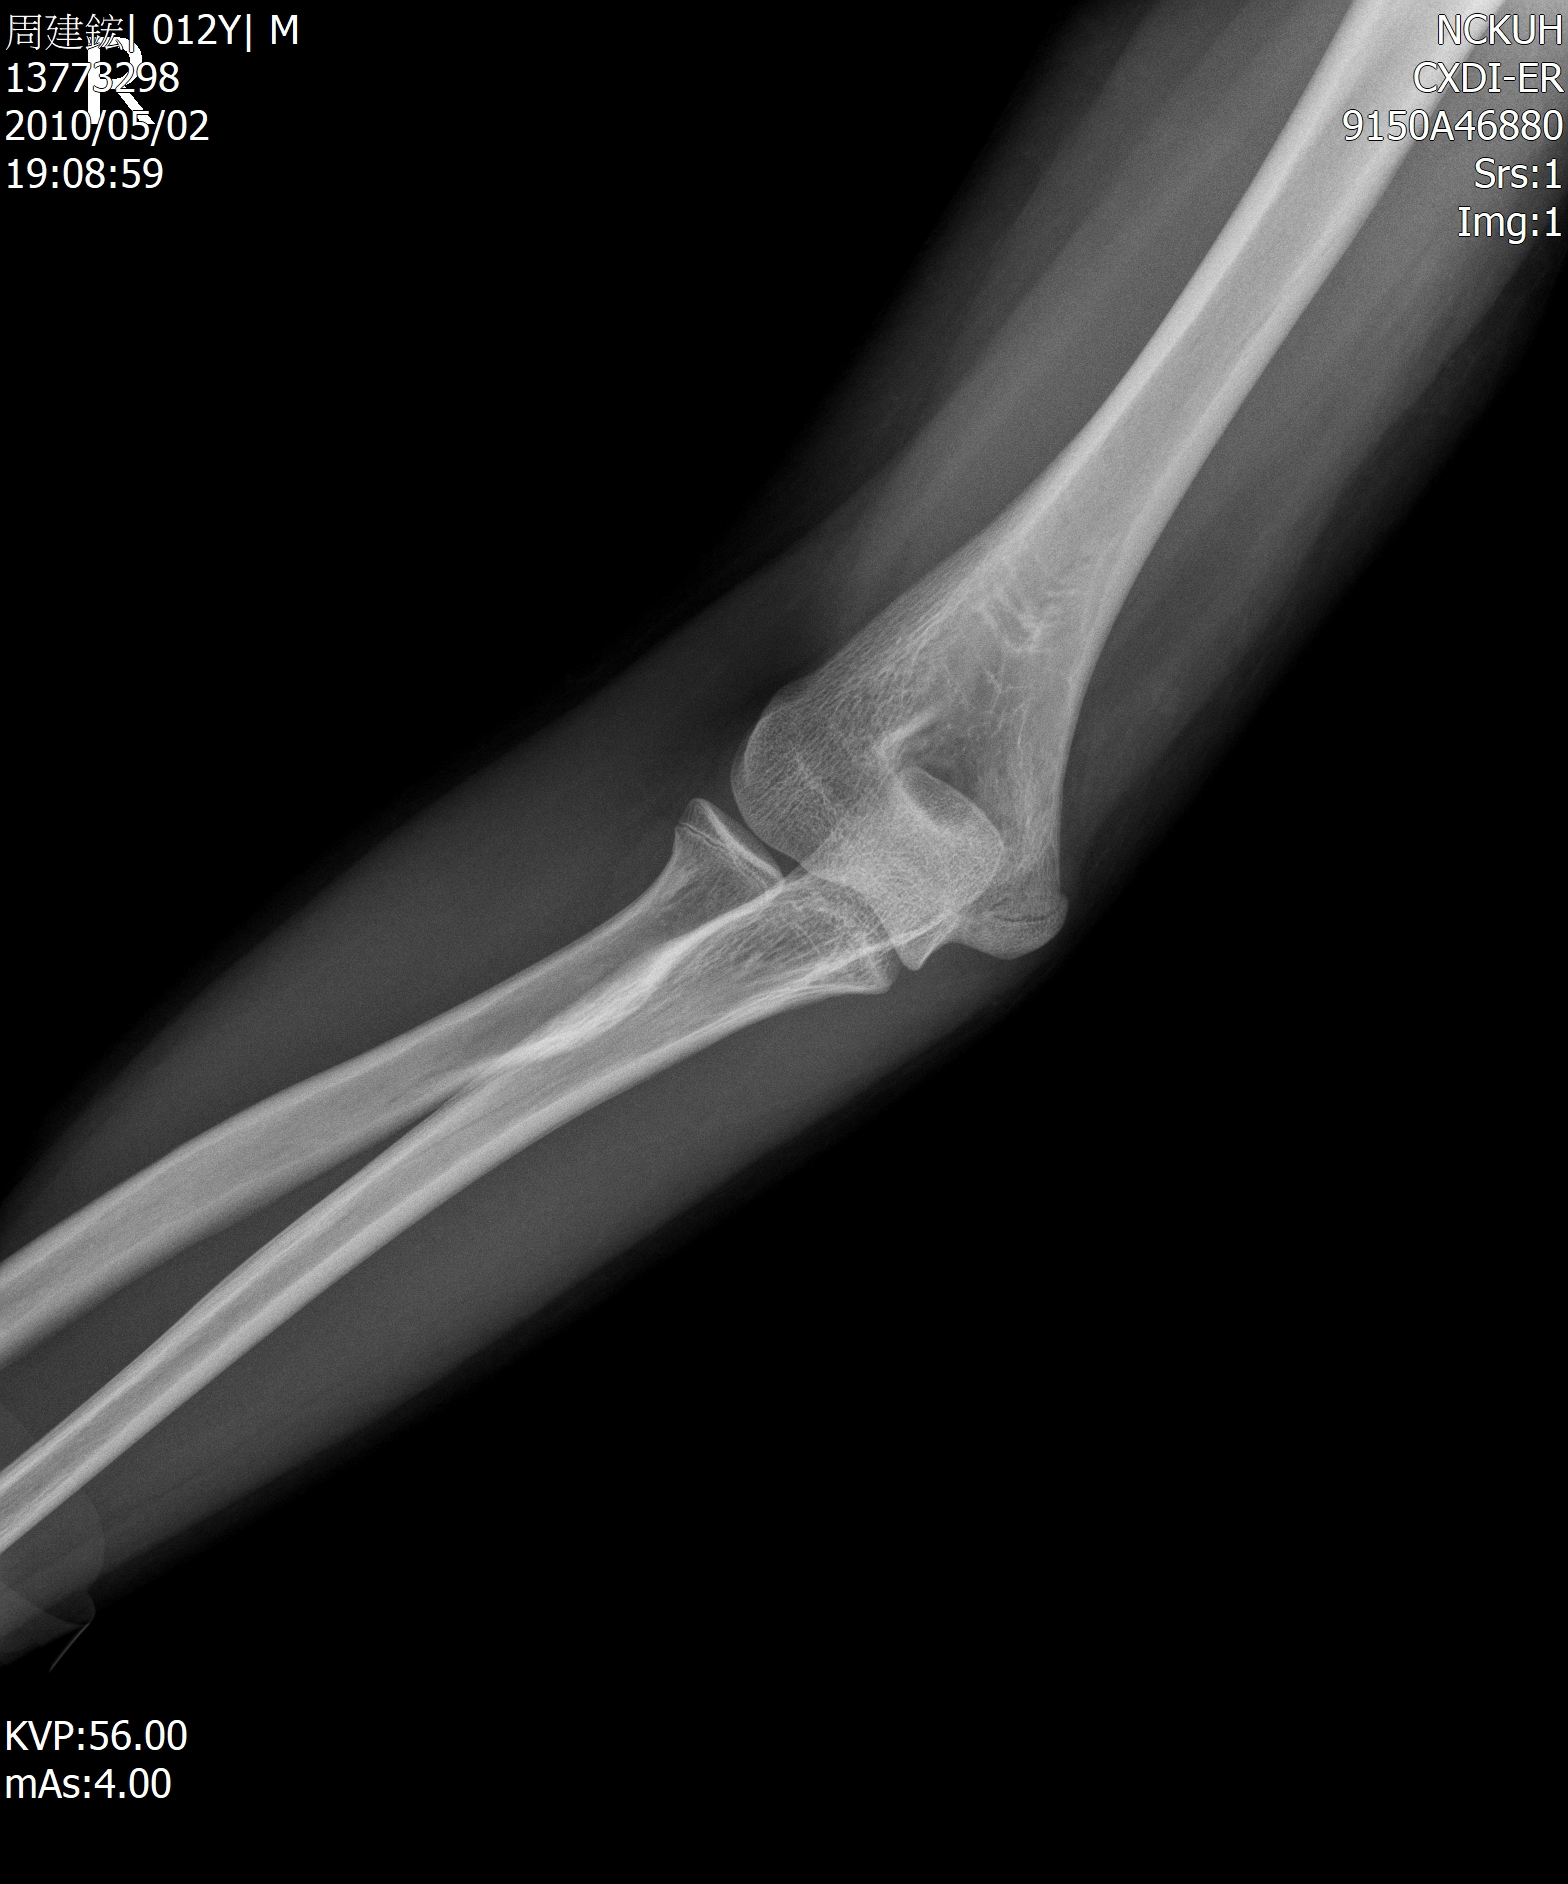Normal: (617, 552, 1191, 1120)
